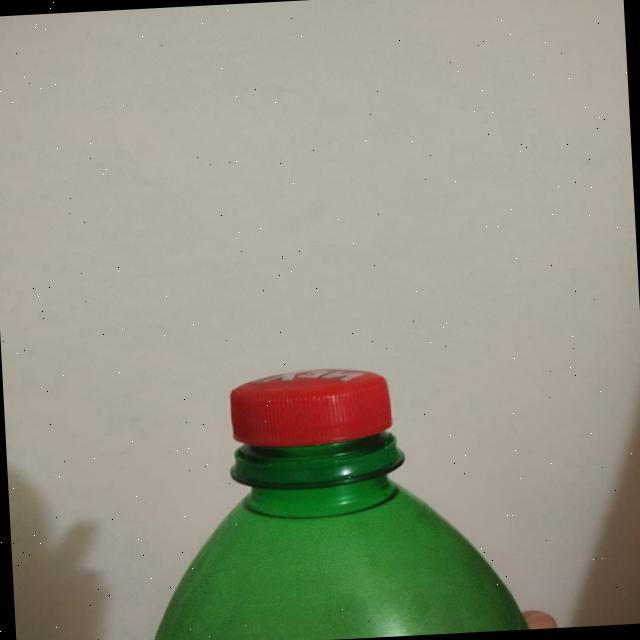cap: (228, 368, 402, 486)
